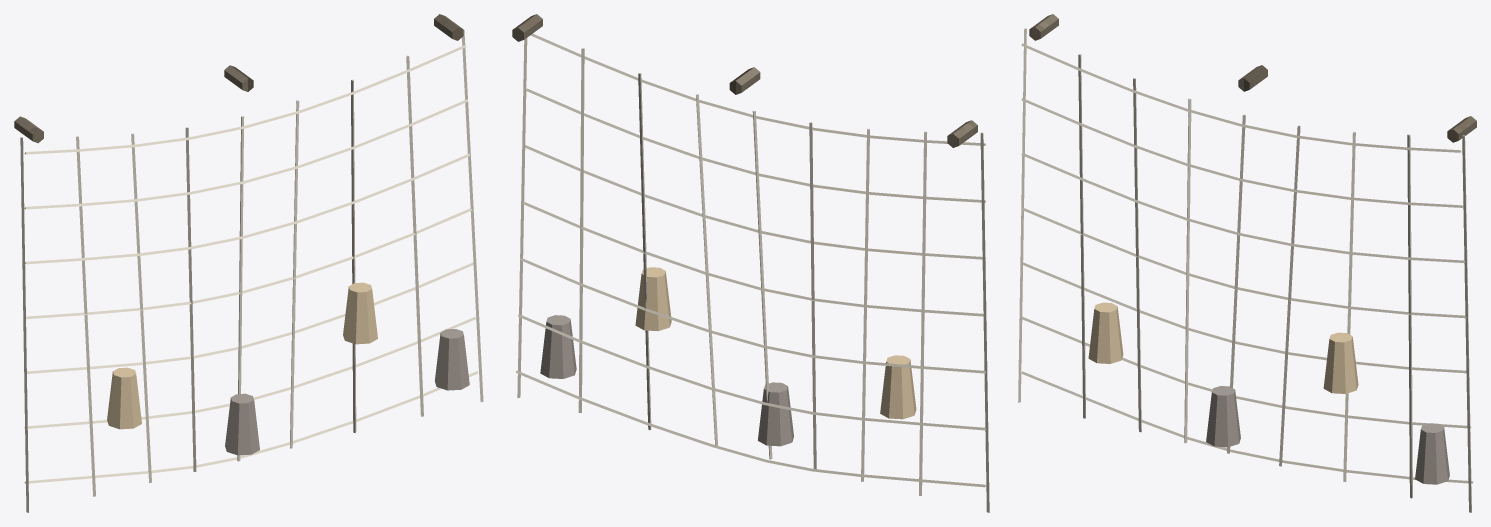
The model's file is fishing_net.glb.
3 renders of one model, left to right at view 1: azimuth 30°, elevation 25°; view 2: azimuth 150°, elevation 25°; view 3: azimuth 330°, elevation 25°, orthographic. The views are drawn at different scales.
Visible parts, largest first — view 1: body; view 2: body; view 3: body.
Boxes of the visible parts, left/top/right/bottom form: body: left=14, top=14, right=483, bottom=512; body: left=512, top=14, right=989, bottom=512; body: left=1018, top=14, right=1476, bottom=512.
Size of the model in its own units: 1.74 by 1.38 by 0.23.
Materials: 4 (1 with a texture image).
